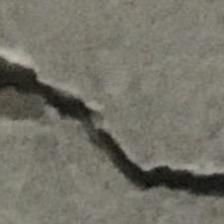Crack: (0, 26, 224, 224)
